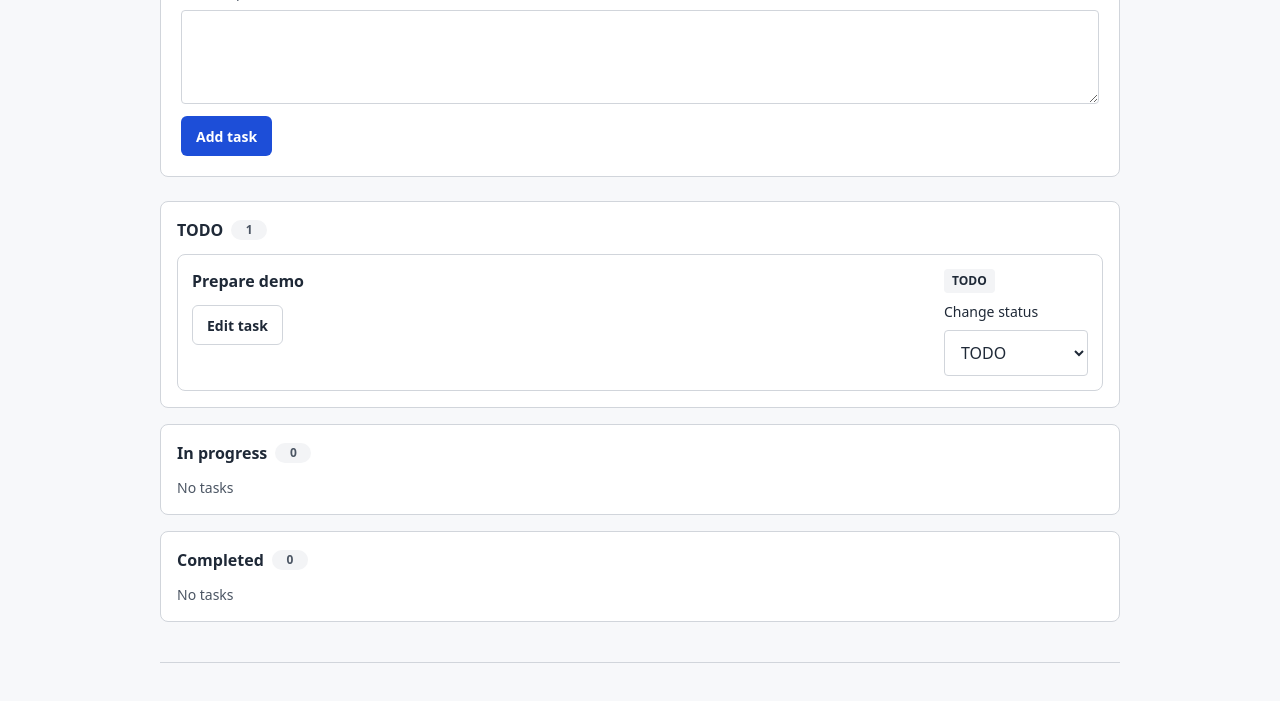
Test: task dashboard › keeps an unsuccessful status choice available to retry without marking it saved
(page scrolled)
Check: the heading "Prepare demo" is shown, box [192, 270, 304, 292]
Select "In progress" in the dropdown labelled "Change status": {"x": 1016, "y": 353} [944, 330, 1088, 376]
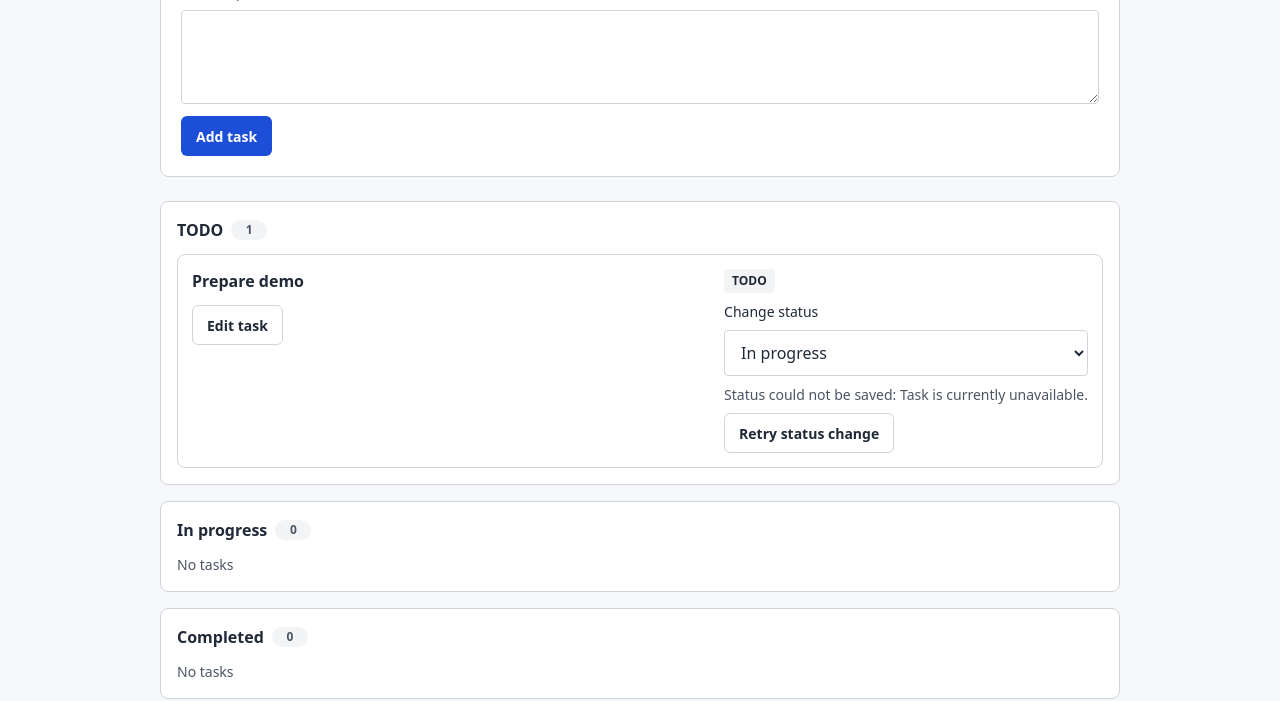
Check: the text "TODO" is shown, box [724, 269, 775, 293]
Check: the message shows "Task is currently unavailable.", box [900, 385, 1088, 404]
Click the button "Retry status change": {"x": 809, "y": 433} [724, 413, 894, 453]
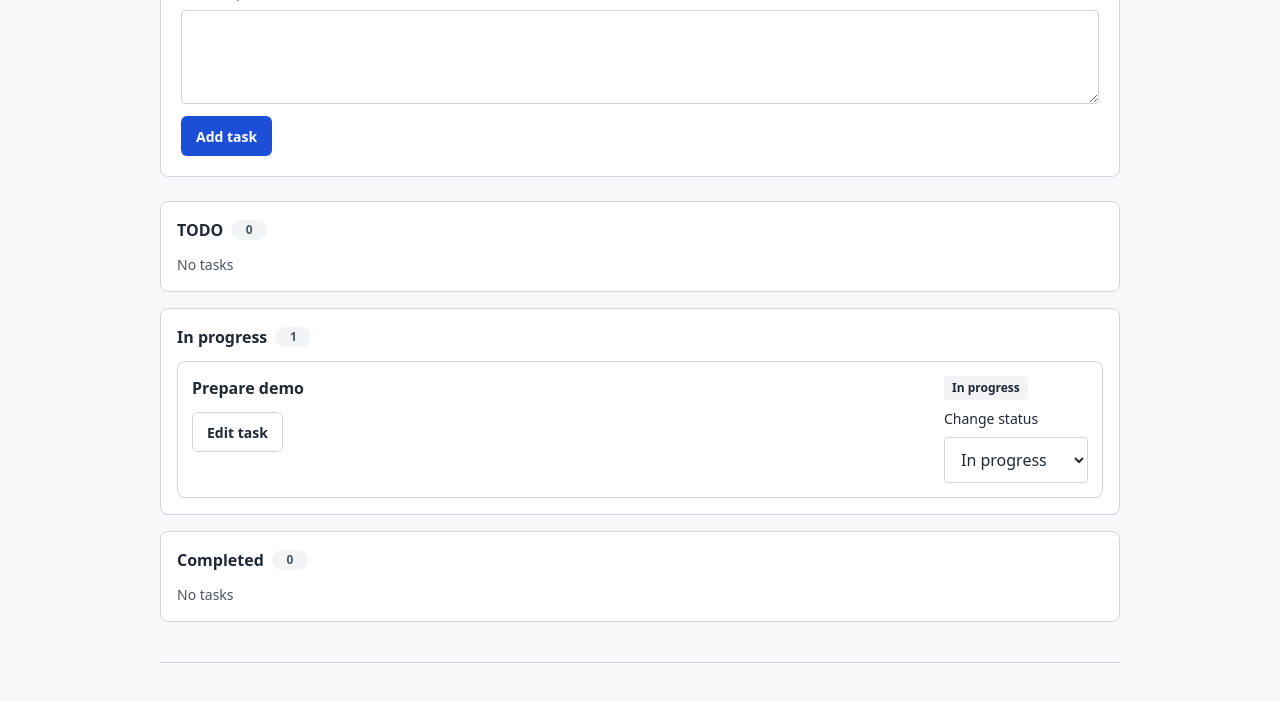
Check: the text "In progress" is shown, box [944, 376, 1028, 400]
